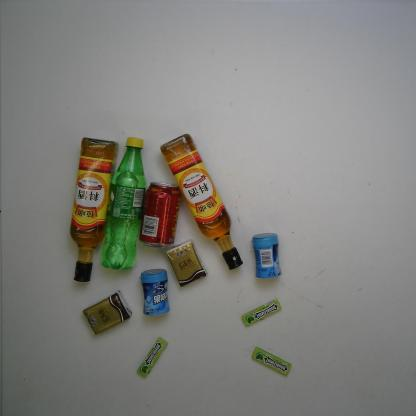Drink: (100, 135, 147, 272), (139, 180, 182, 249)
Gum: (138, 268, 171, 316), (250, 233, 282, 280), (136, 337, 168, 378), (251, 346, 292, 376), (241, 298, 281, 326)
Seasoner: (159, 132, 243, 272), (69, 136, 119, 284)
Tissue: (82, 290, 132, 336), (165, 239, 207, 288)
